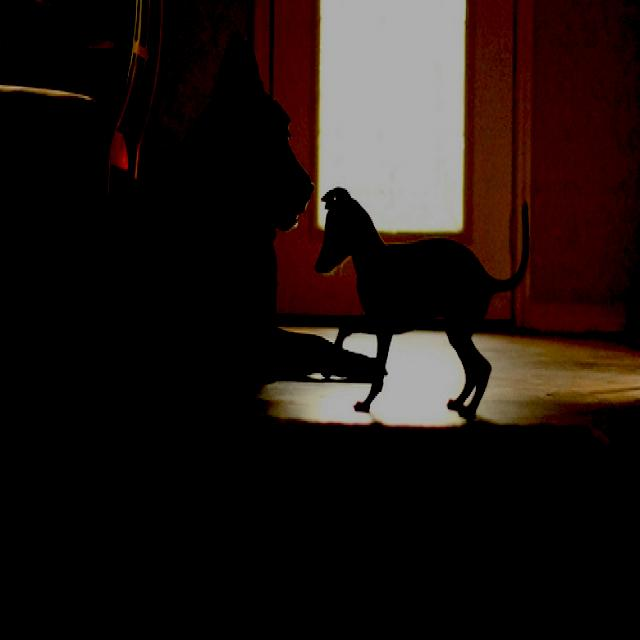Dog: (16, 44, 317, 396), (318, 168, 546, 424)
